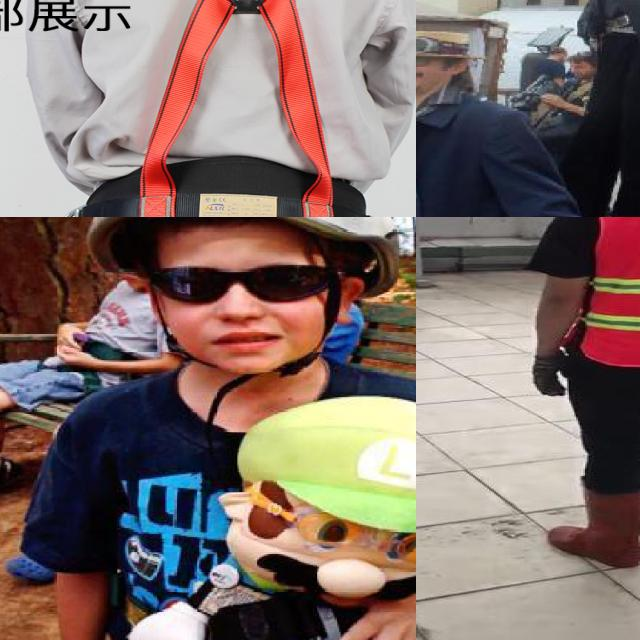Harness: (115, 0, 374, 217)
boots: (547, 486, 640, 566)
face_nomask: (154, 248, 327, 360), (416, 54, 432, 88)
glasses: (128, 247, 368, 304), (279, 494, 416, 571)
hand_glove: (530, 351, 571, 395)
hand_noglove: (318, 586, 416, 640)
head_helmet: (89, 217, 380, 249)
person: (49, 217, 416, 640), (513, 217, 640, 575), (416, 22, 534, 217), (555, 0, 640, 217)
vest: (588, 217, 640, 366)
